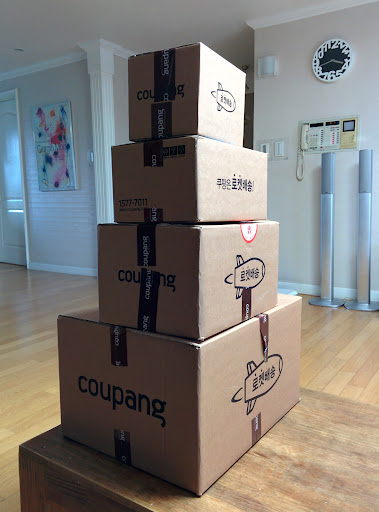undamaged: (51, 40, 309, 502)
